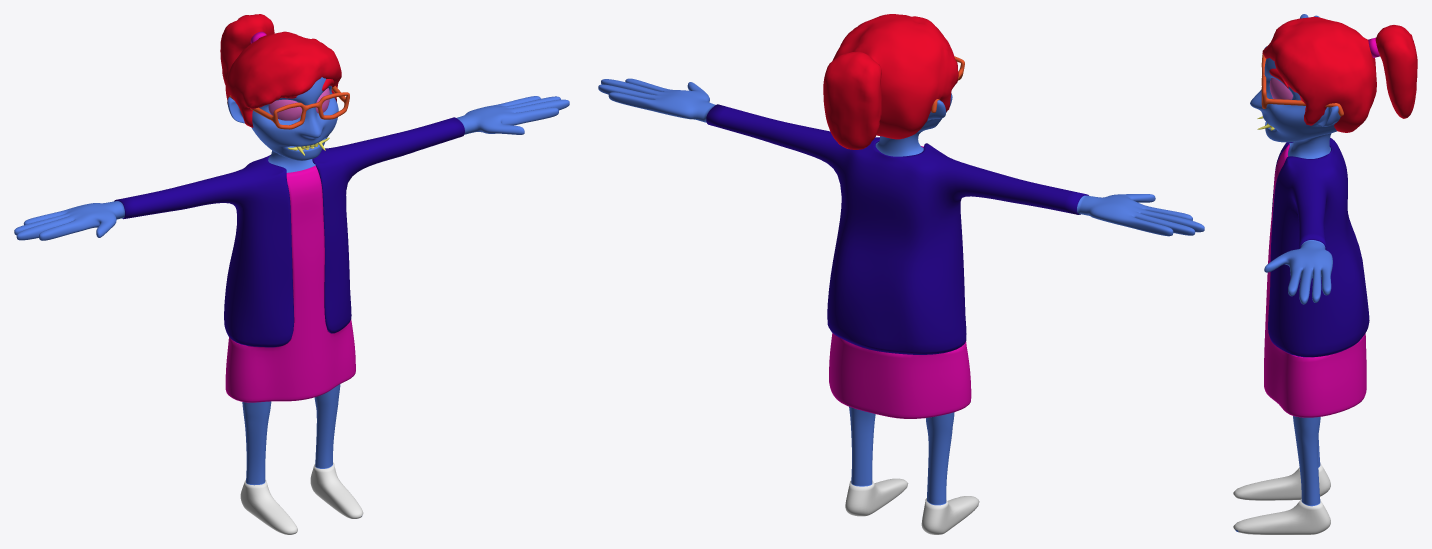
The model's file is Rhonja.fbx.
The picture shows the model from 3 angles, left to right: view 1: azimuth 30°, elevation 25°; view 2: azimuth 150°, elevation 25°; view 3: azimuth 270°, elevation 25°; orthographic projection. The views are drawn at different scales.
Parts seen in each view (by area): view 1: Rhonja; view 2: Rhonja; view 3: Rhonja.
Boxes of the visible parts, bbox=[...] form: Rhonja: bbox=[14, 14, 569, 534]; Rhonja: bbox=[598, 14, 1204, 534]; Rhonja: bbox=[1233, 14, 1417, 534].
Bounding box in the file's own units: 512 × 140 × 409.
